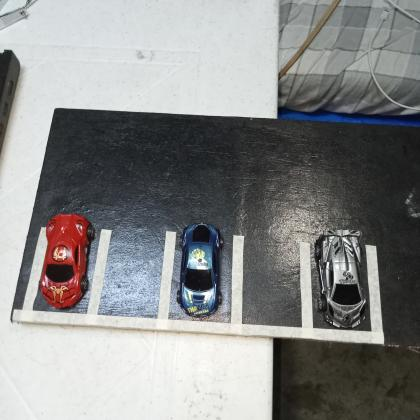Car: (312, 224, 372, 330), (38, 212, 94, 312), (175, 222, 224, 319)
